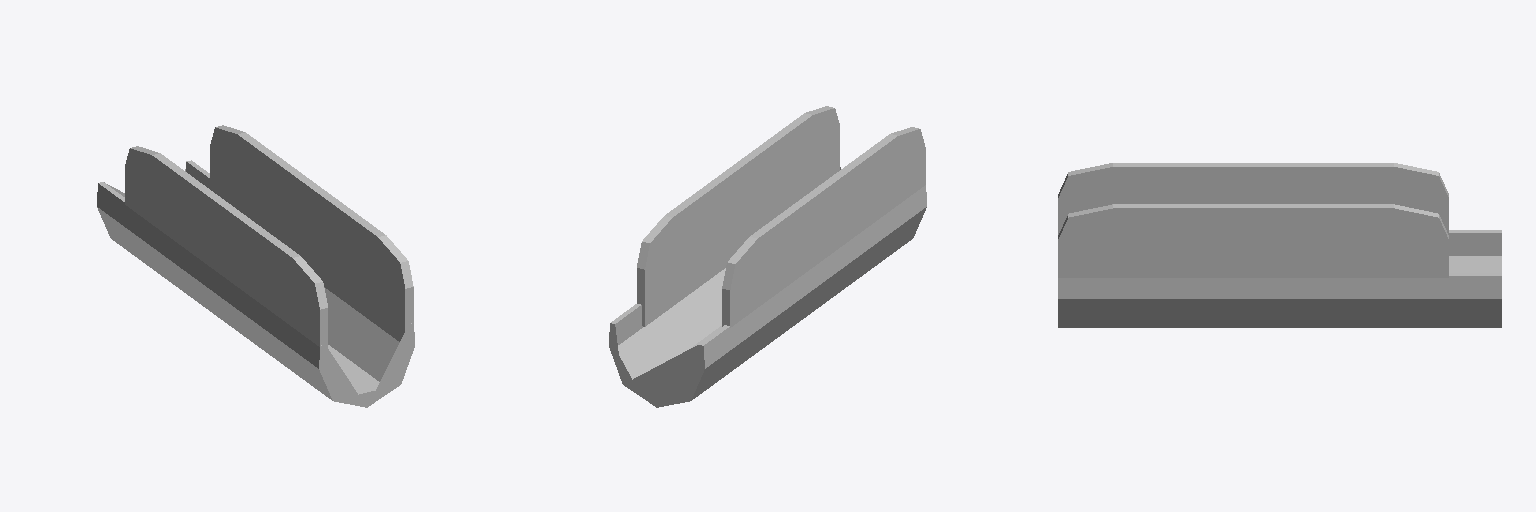
The model's file is Foregrip.obj.
3 renders of one model, left to right at view 1: azimuth 30°, elevation 25°; view 2: azimuth 150°, elevation 25°; view 3: azimuth 270°, elevation 25°, orthographic.
Parts seen in each view (by area): view 1: Cube.012; view 2: Cube.012; view 3: Cube.012.
Boxes of the visible parts, x1,y1,x2,y2 form: Cube.012: [97, 125, 414, 407]; Cube.012: [609, 106, 926, 407]; Cube.012: [1058, 163, 1501, 327].
Bounding box in the file's own units: 0.1792 × 0.25 × 0.7152.